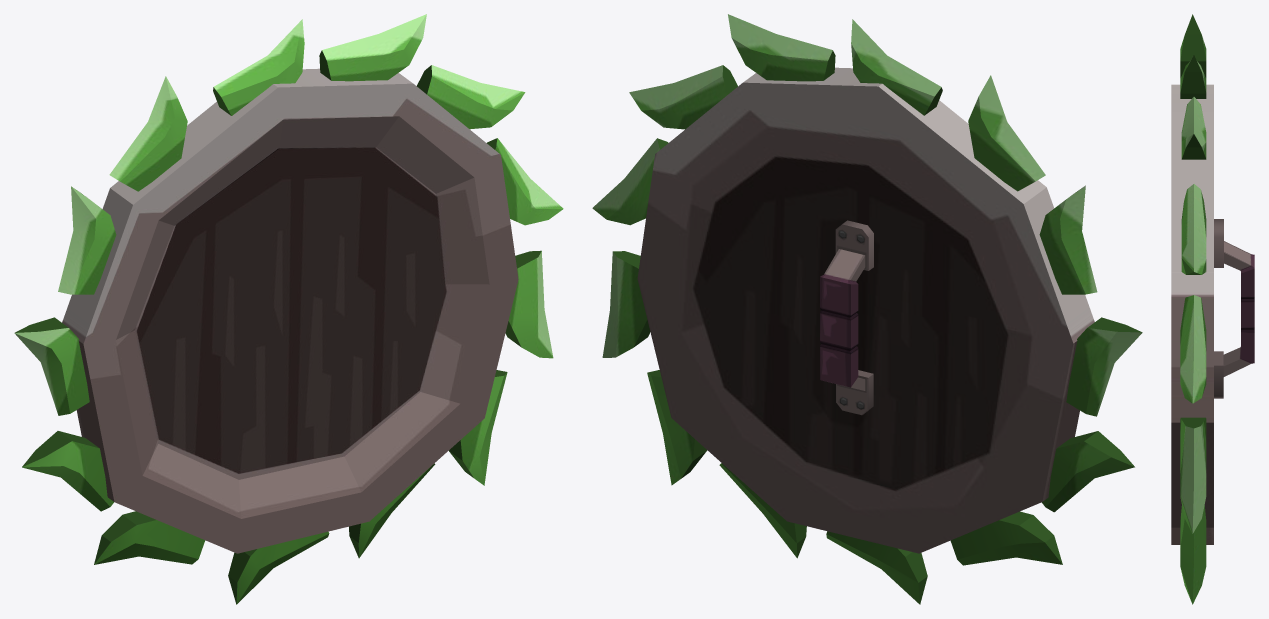
Rendered from Poison_05.FBX.
3 views of the same model, side by side, from view 1: azimuth 30°, elevation 25°; view 2: azimuth 150°, elevation 25°; view 3: azimuth 270°, elevation 25° (orthographic). The views are drawn at different scales.
Visible parts, largest first — view 1: Poison_05; view 2: Poison_05; view 3: Poison_05.
Part boxes in pixels (x1,y1,x2,y2): Poison_05: [14, 14, 563, 604]; Poison_05: [592, 14, 1142, 604]; Poison_05: [1171, 14, 1254, 604].
Bounding box in the file's own units: 60.58 × 59.95 × 8.64.
